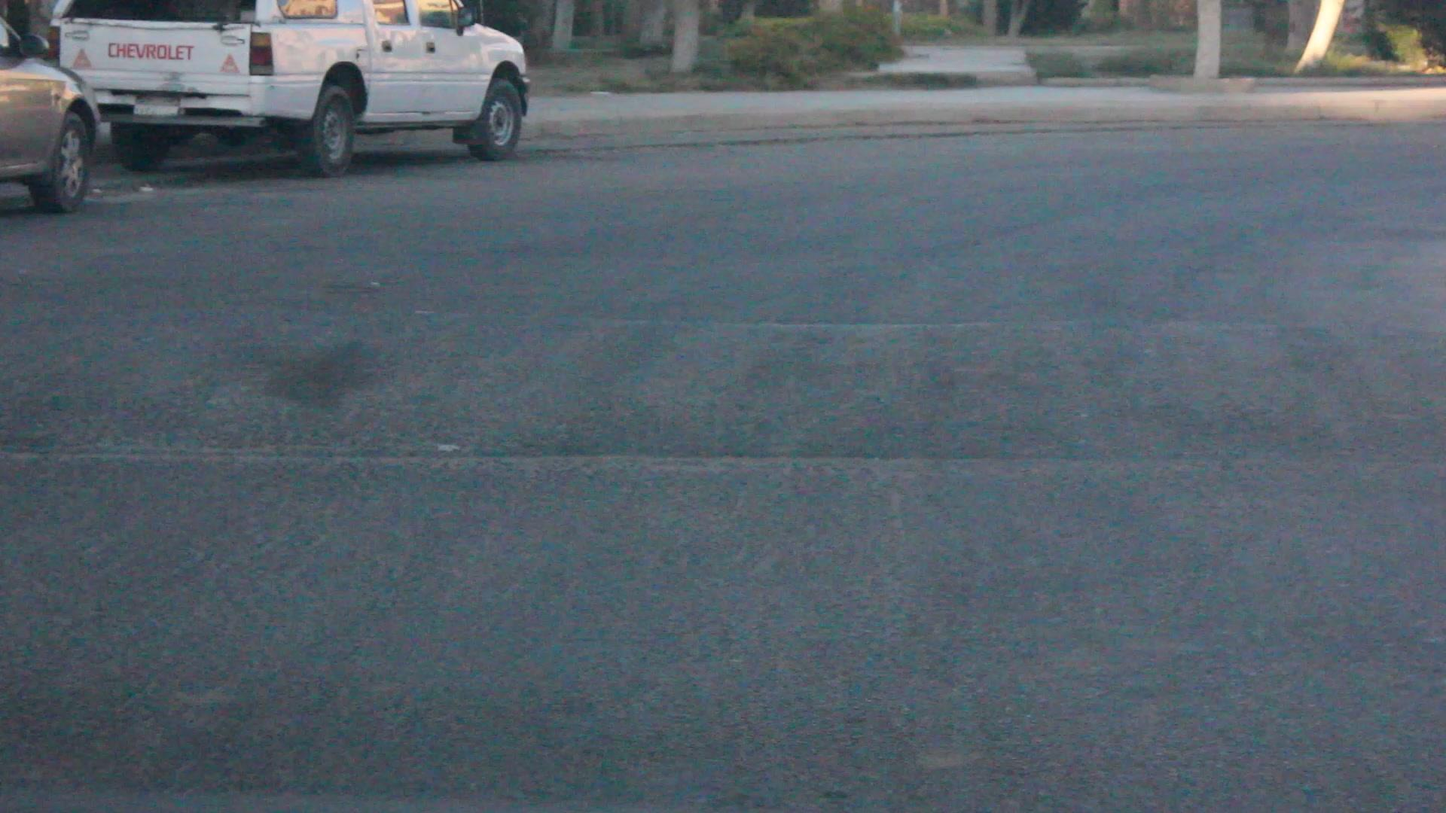Bump: (0, 299, 1445, 467)
